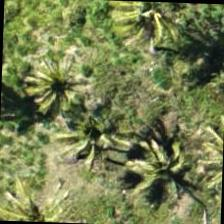Kelapa_Sawit: (55, 83, 148, 176), (16, 40, 108, 134), (116, 126, 210, 218), (110, 0, 202, 70)
